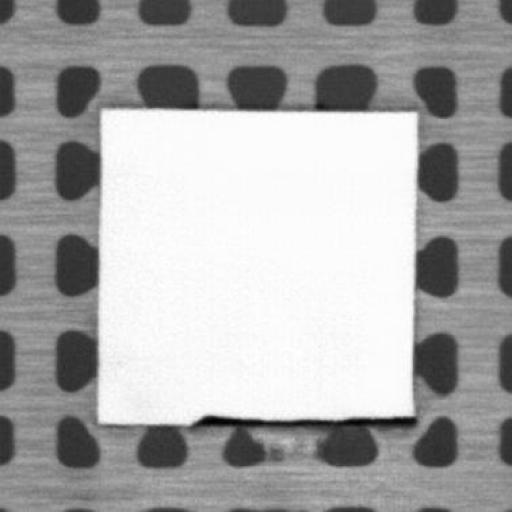DIE_BROKEN: (185, 410, 416, 428)
